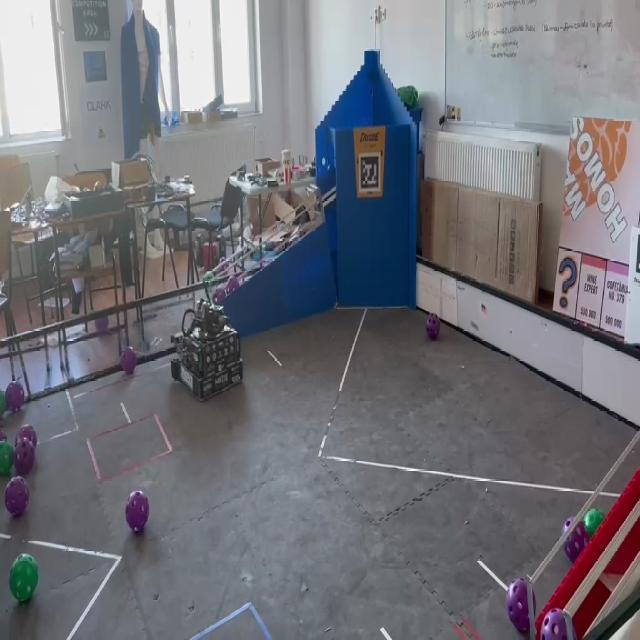artifact_green: (10, 554, 38, 602), (584, 509, 604, 540), (0, 441, 13, 476), (0, 391, 6, 418), (0, 427, 7, 441)
artifact_purple: (507, 578, 529, 633), (5, 476, 29, 517), (564, 523, 588, 563), (126, 491, 149, 532), (540, 609, 568, 639), (13, 438, 35, 475), (5, 382, 24, 412), (15, 425, 37, 447), (121, 347, 137, 375), (426, 314, 440, 340), (95, 316, 109, 334), (226, 276, 239, 295), (214, 286, 226, 305), (0, 428, 7, 441), (259, 259, 266, 268)
